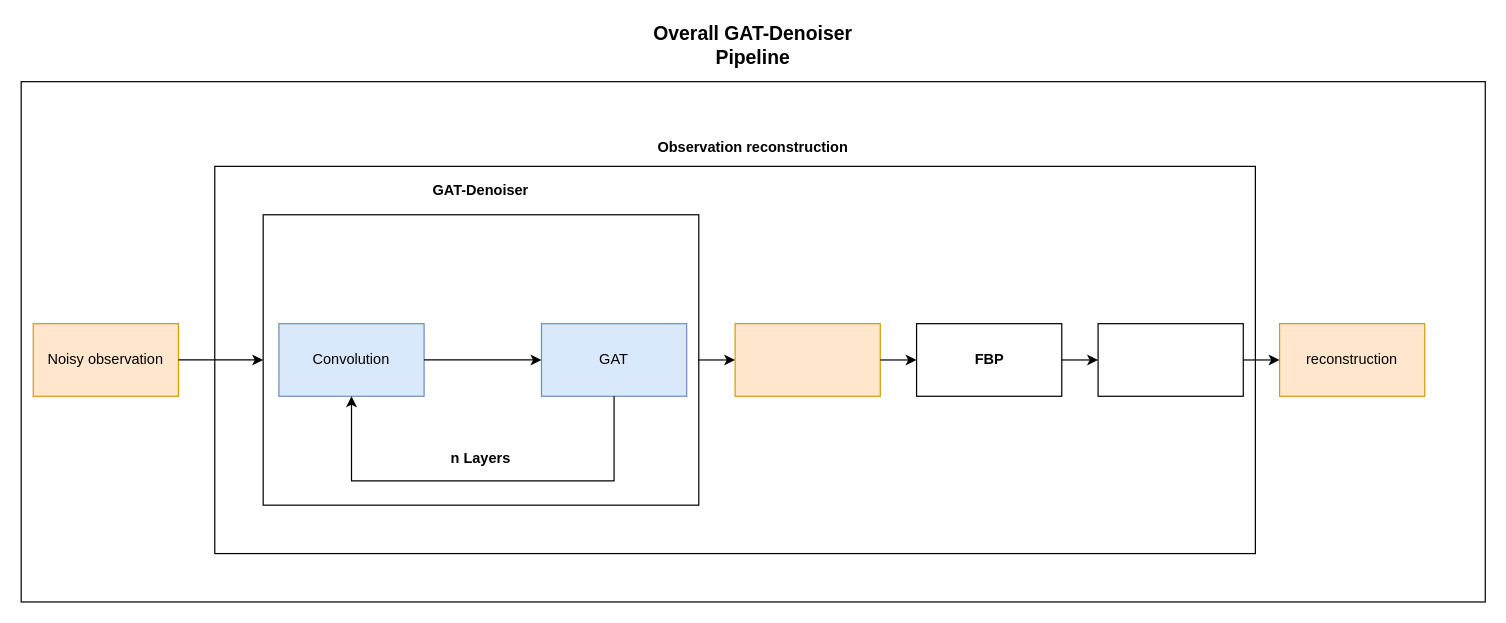
Some shapes in this 1506 by 623 pixel diagram are drawn without their labels. Each missing label, with the centre of its shape:
"denoised observation" belongs at (807,359).
"U-Net" belongs at (1170,359).
